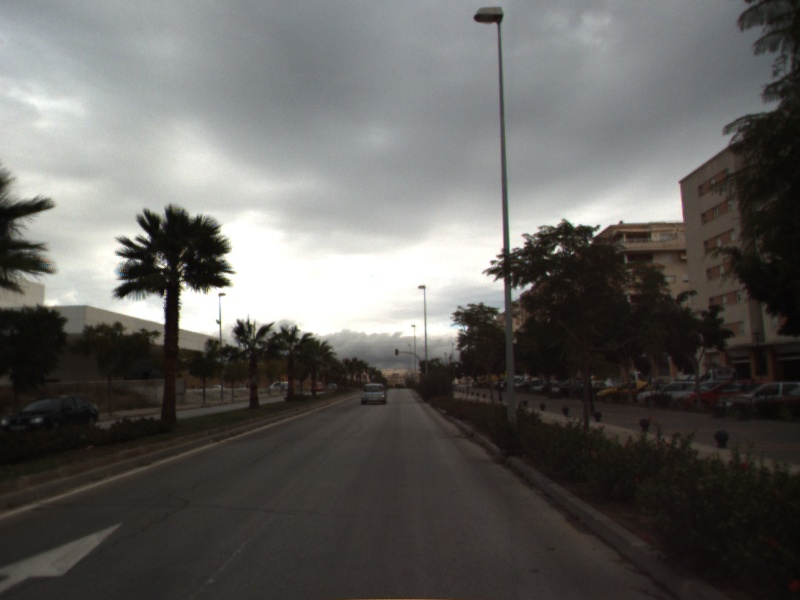STRAIGHT: (1, 519, 127, 595)
